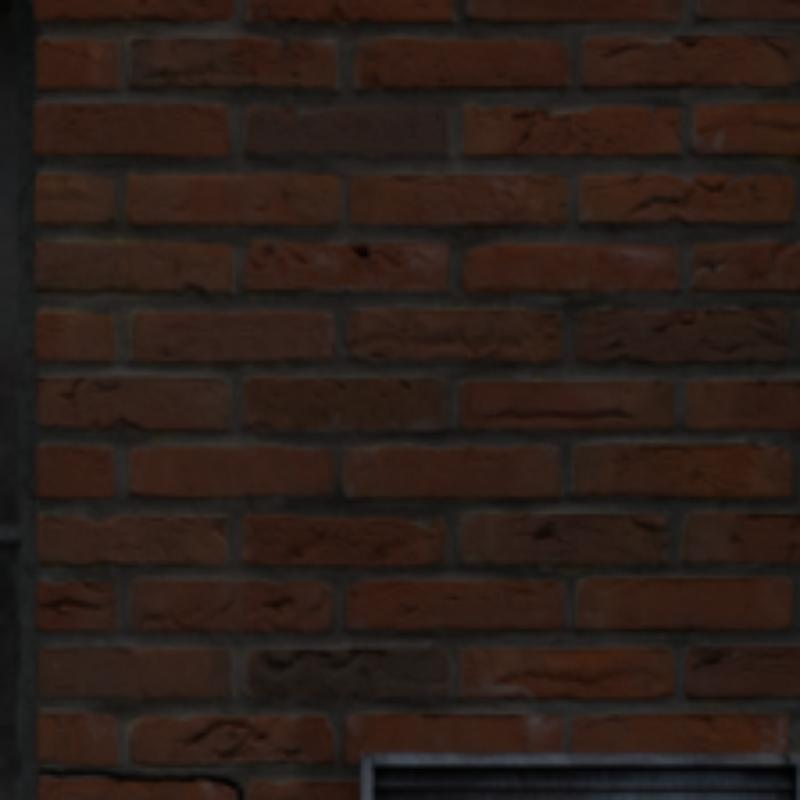pothole: (109, 774, 239, 796), (39, 768, 90, 775)
